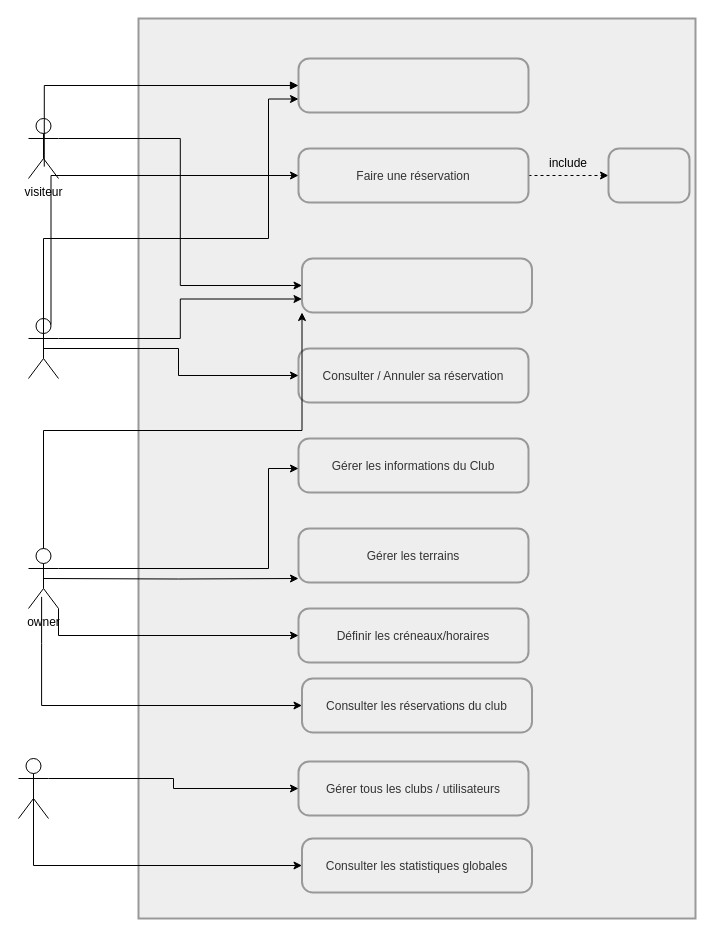
This 714x936 diagram has some shape labels left out. The centre of each missing label's shape, as x and y in pixels:
admin: point 33,788
membre: point 43,348
Payer en ligne: point 648,175
Rechercher un terrain / club: point 413,85
S'inscrire / Se connecter: point 416,285
